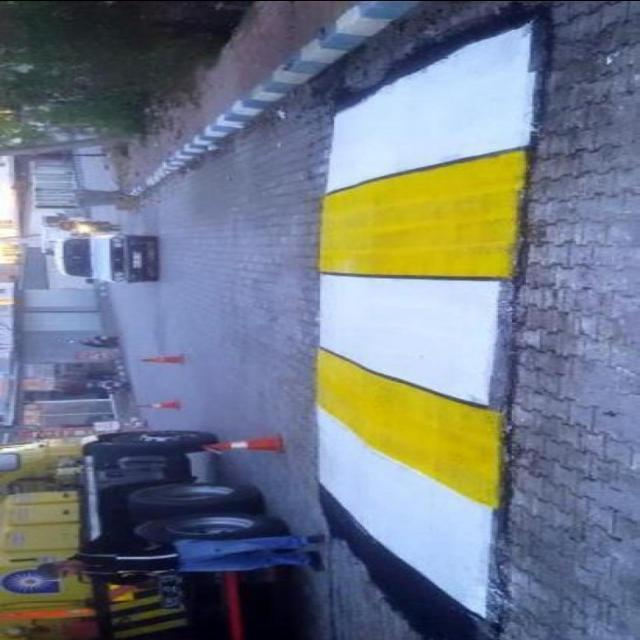speedbreaker: (314, 12, 542, 640)
